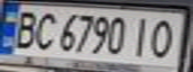0: (106, 14, 130, 56)
6: (54, 10, 78, 53)
7: (72, 11, 96, 54)
9: (90, 12, 112, 55)
B: (6, 8, 42, 51)
C: (30, 9, 60, 52)
I: (127, 15, 157, 58)
O: (145, 16, 184, 61)
